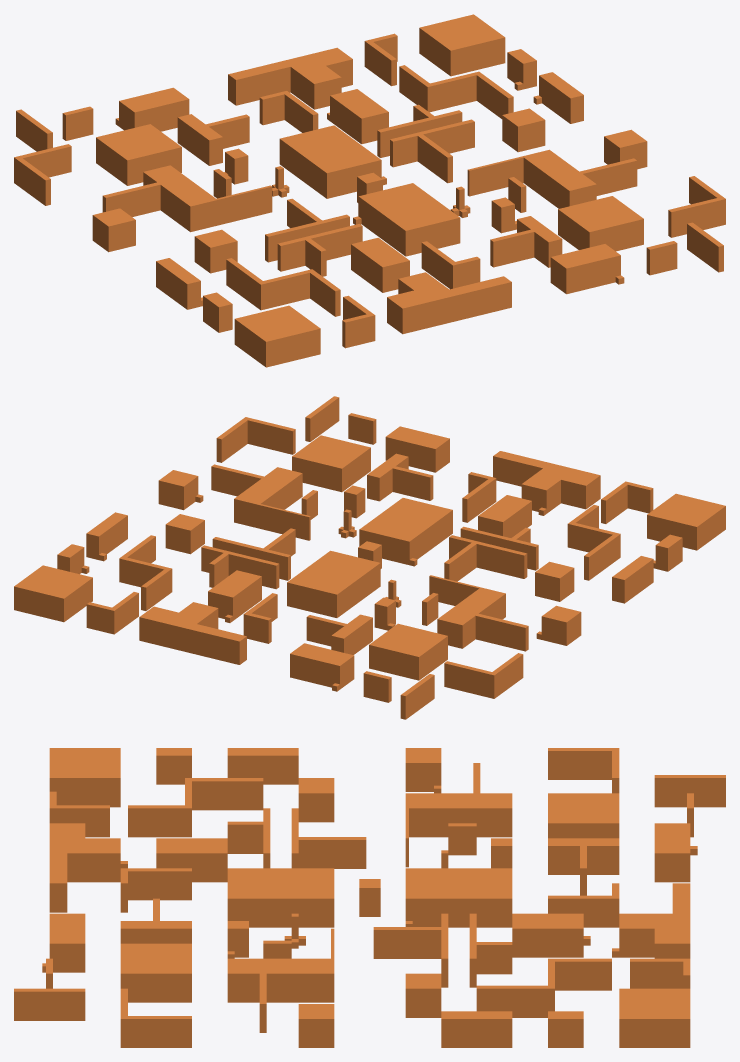
File: Floor Walls.fbx
The picture shows the model from 3 angles, top to bottom: view 1: azimuth 30°, elevation 25°; view 2: azimuth 150°, elevation 25°; view 3: azimuth 270°, elevation 25°; orthographic projection. The views are drawn at different scales.
Parts seen in each view (by area): view 1: Plane.044, Plane.007, Plane.014, Plane.016, Plane.053, Plane.051, Plane.031, Plane.068, Plane.003, Plane.040, Plane.029, Plane.066 (+30 smaller); view 2: Plane.007, Plane.044, Plane.051, Plane.053, Plane.016, Plane.014, Plane.040, Plane.068, Plane.003, Plane.031, Plane.012, Plane.029 (+30 smaller); view 3: Plane.014, Plane.051, Plane.007, Plane.044, Plane.029, Plane.066, Plane.016, Plane.068, Plane.003, Plane.031, Plane.053, Plane.040 (+31 smaller).
Part boxes in pixels (<box>): Plane.044: <box>102,165,272,232</box>; Plane.007: <box>467,149,637,208</box>; Plane.014: <box>358,183,460,256</box>; Plane.016: <box>387,272,511,334</box>; Plane.053: <box>228,47,352,109</box>; Plane.051: <box>279,125,381,198</box>; Plane.031: <box>234,305,320,367</box>; Plane.068: <box>419,14,505,76</box>; Plane.003: <box>558,196,643,251</box>; Plane.040: <box>96,124,181,185</box>; Plane.029: <box>226,258,340,316</box>; Plane.066: <box>399,65,513,118</box>; Plane.007: <box>211,464,310,540</box>; Plane.044: <box>429,575,528,651</box>; Plane.051: <box>287,550,380,617</box>; Plane.053: <box>139,602,246,664</box>; Plane.016: <box>493,451,600,513</box>; Plane.014: <box>359,498,452,565</box>; Plane.040: <box>369,623,447,680</box>; Plane.068: <box>14,565,92,622</box>; Plane.003: <box>292,435,370,492</box>; Plane.031: <box>647,493,725,550</box>; Plane.012: <box>444,535,527,581</box>; Plane.029: <box>567,505,620,580</box>; Plane.014: <box>227,868,334,927</box>; Plane.051: <box>405,868,512,927</box>; Plane.007: <box>227,928,334,1032</box>; Plane.044: <box>405,763,512,867</box>; Plane.029: <box>128,778,263,837</box>; Plane.066: <box>476,958,611,1017</box>; Plane.016: <box>49,823,120,912</box>; Plane.068: <box>619,988,690,1047</box>; Plane.003: <box>120,943,191,1002</box>; Plane.031: <box>49,748,120,807</box>; Plane.053: <box>619,883,690,958</box>; Plane.040: <box>548,793,619,838</box>.
Size of the model in its own units: 1800 by 90 by 2000.
